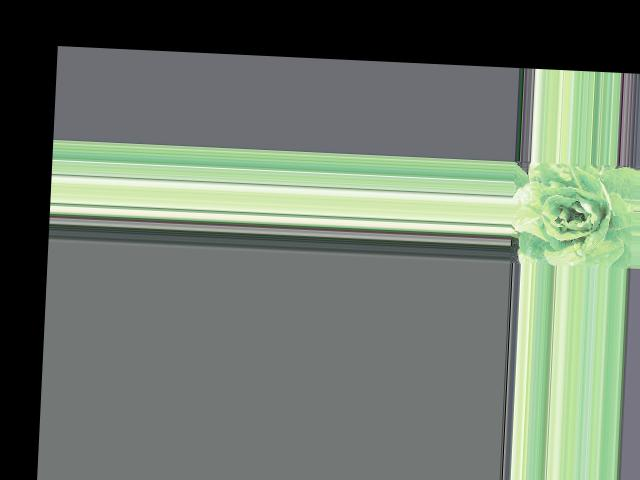lettuce: (515, 160, 633, 265)
